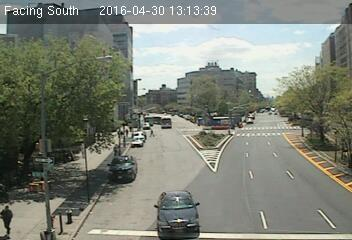neg: (302, 134, 321, 160), (166, 187, 182, 209), (59, 200, 72, 219), (158, 117, 171, 134), (234, 116, 244, 129), (219, 124, 228, 137), (190, 113, 198, 123), (139, 110, 146, 119), (175, 112, 181, 120)
pos: (147, 129, 154, 138), (128, 126, 134, 134), (124, 129, 129, 137)
